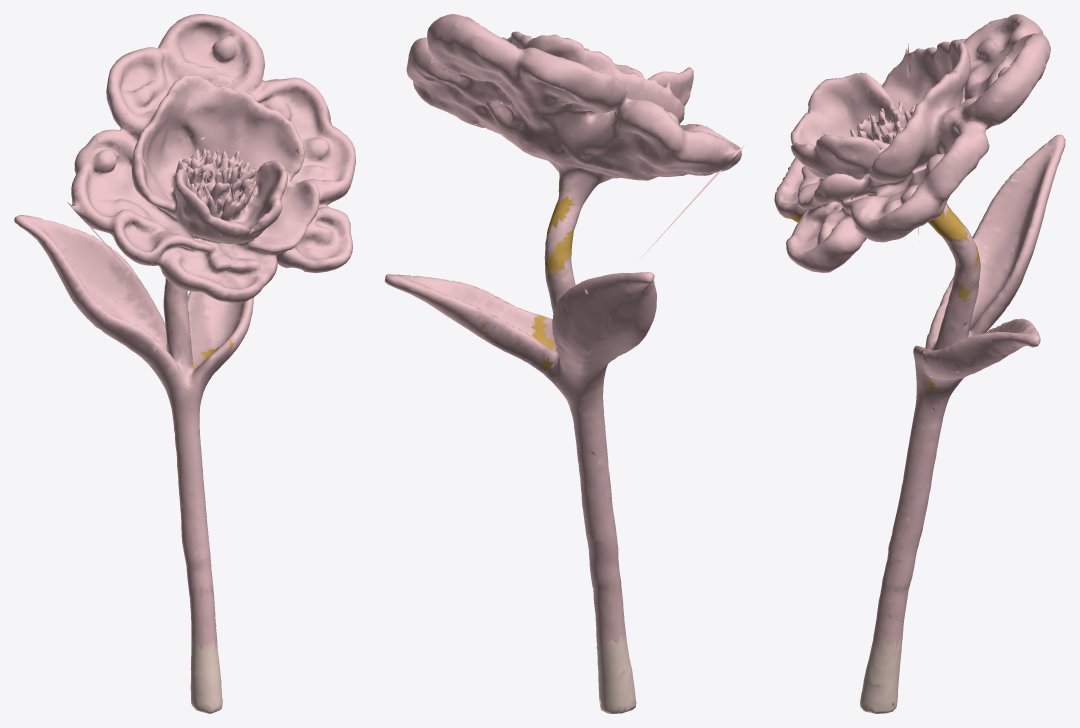
The model's file is nhuy-ai.glb.
The picture shows the model from 3 angles, left to right: view 1: azimuth 30°, elevation 25°; view 2: azimuth 150°, elevation 25°; view 3: azimuth 270°, elevation 25°; orthographic projection. The views are drawn at different scales.
Parts seen in each view (by area): view 1: petal, stem; view 2: petal, stem, stamen; view 3: petal, stem, stamen.
Boxes of the visible parts, x1,y1,x2,y2 form: petal: (14,14,355,650); stem: (190,636,222,713); petal: (384,14,744,645); stem: (596,632,636,713); stamen: (480,182,575,370); petal: (774,14,1065,648); stem: (860,635,902,713); stamen: (785,203,979,389).
Size of the model in its own units: 0.9222 by 1.96 by 0.7348.
